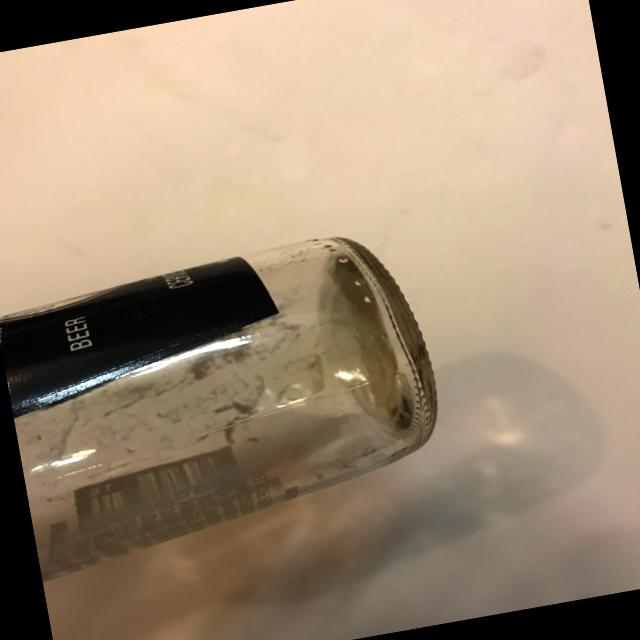Glass: (0, 212, 468, 593)
